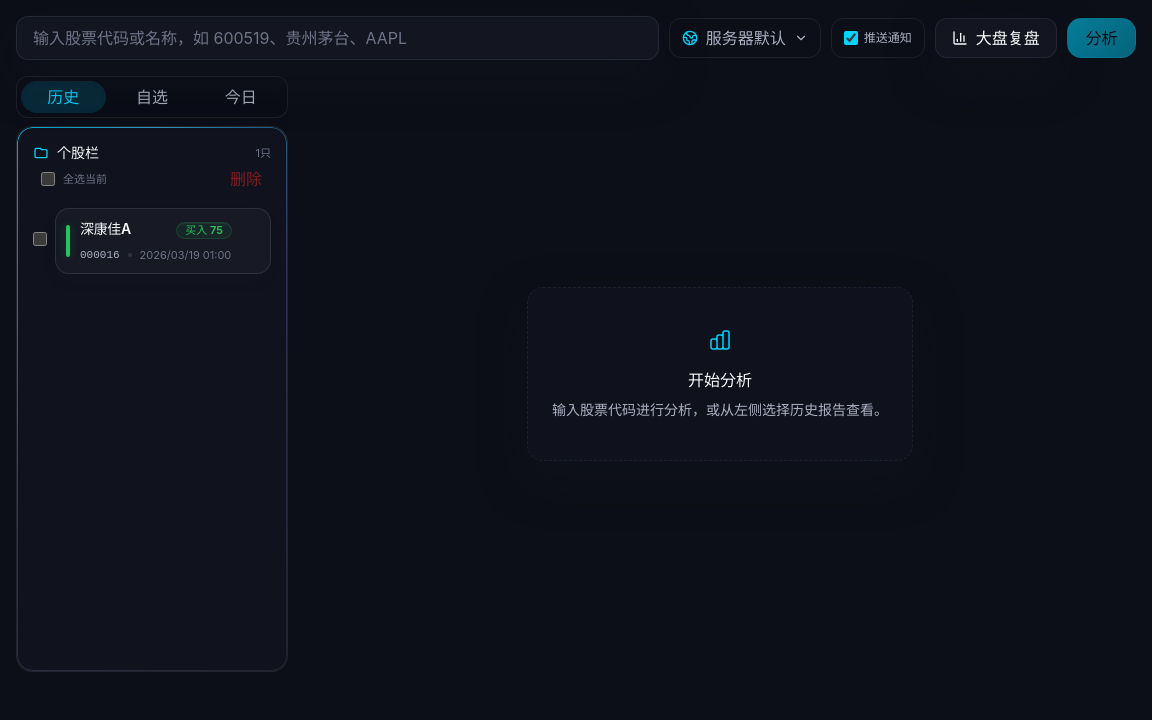
it: HomePage › fails open to stock identity after the index registry load fails (PR #2312)
The image size is (1152, 720).
Step 1. Click the button "自选" → (152, 97), box 110,81 -> 194,113
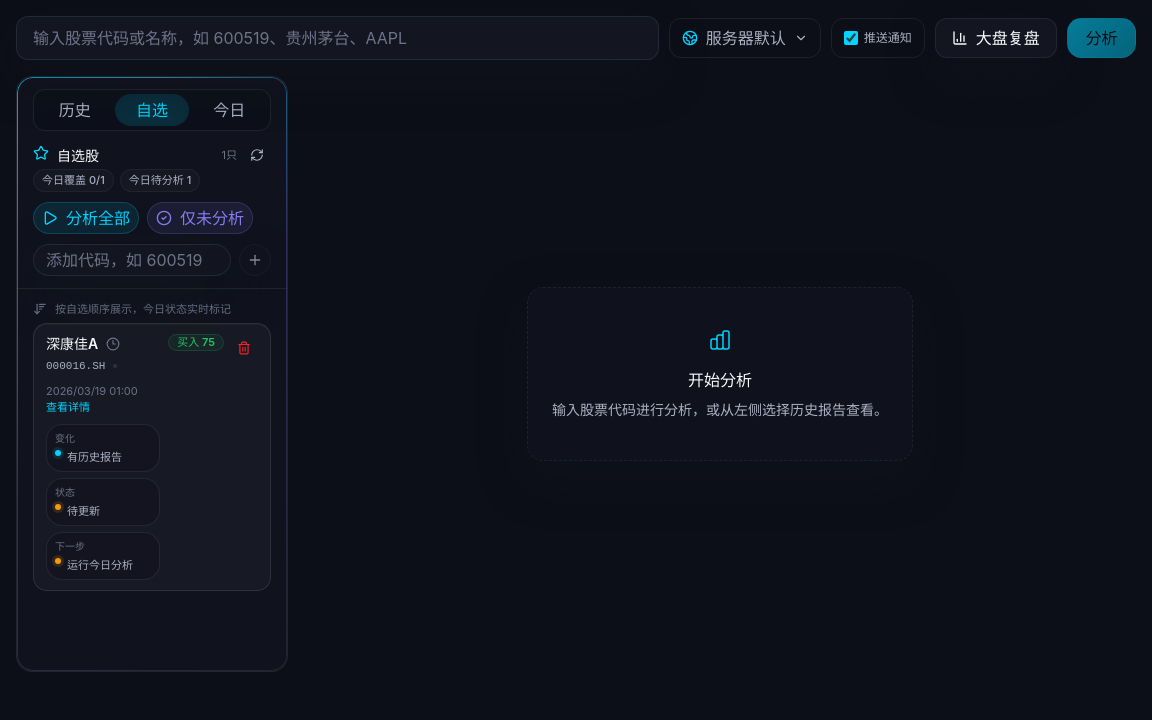
Now the element with test id "watchlist-row-000016.SH" shows "深康佳A", box 46,334 -> 160,580
Now the button "分析全部" is enabled, box 33,202 -> 139,234
